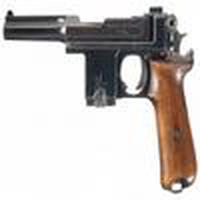gun: (2, 4, 200, 182)
